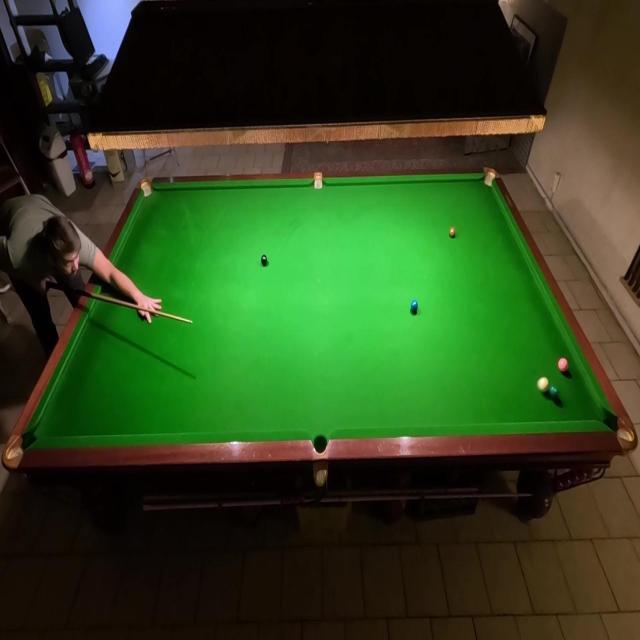Ball: (537, 377, 549, 392), (558, 358, 568, 373), (550, 386, 560, 399), (260, 254, 268, 266), (448, 226, 456, 238), (411, 300, 418, 312)
